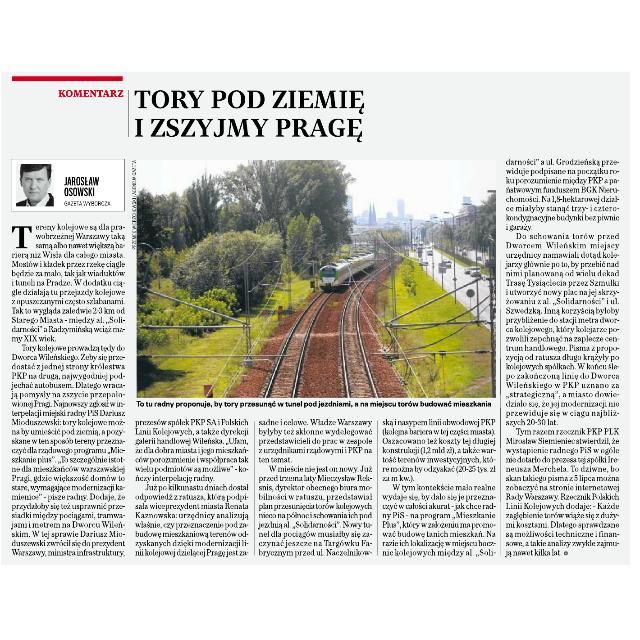author: (61, 172, 105, 198)
body: (501, 155, 625, 560), (9, 220, 129, 560), (380, 414, 500, 560), (133, 414, 251, 560), (258, 414, 376, 560)
caption: (136, 398, 494, 408)
image: (134, 158, 496, 396)
title: (57, 84, 377, 144)
